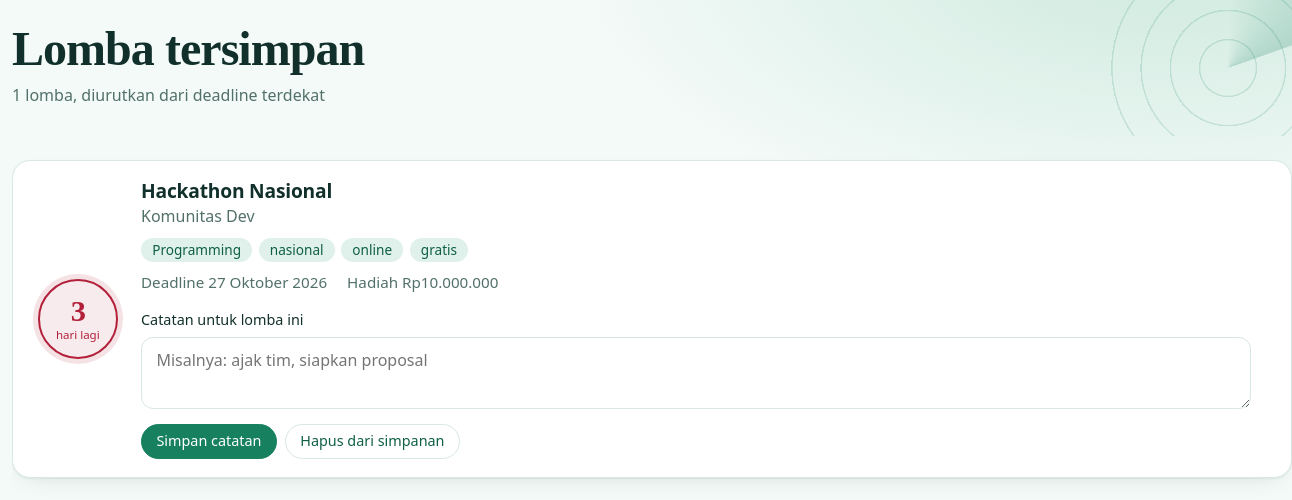
Test: Tersimpan › gagal menyimpan catatan menampilkan pesan error di samping tombol
Click the button "Simpan catatan": (209, 441) [141,424,277,459]
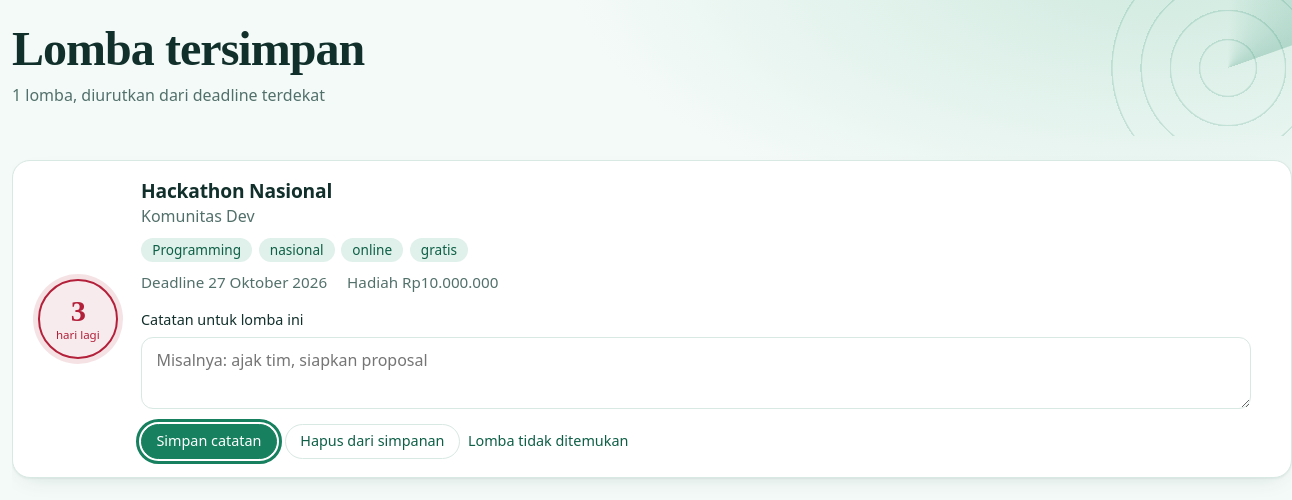
Now the text "Lomba tidak ditemukan" is shown, box [468,430,628,453]
